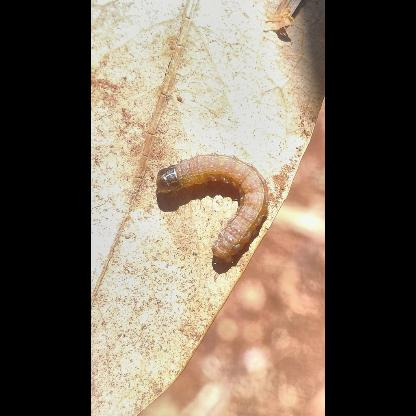Fall Armyworm Larvae: (152, 148, 274, 270)
